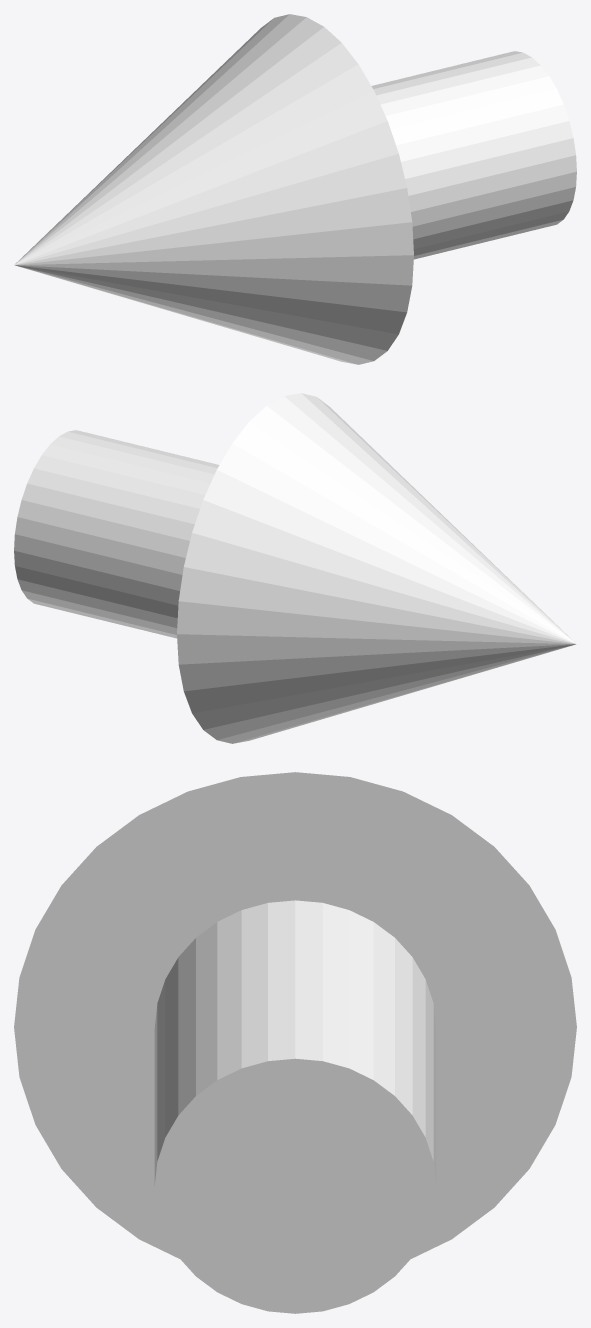
The model's file is TitleArrow.obj.
3 views of the same model, one above another, from view 1: azimuth 30°, elevation 25°; view 2: azimuth 150°, elevation 25°; view 3: azimuth 270°, elevation 25° (orthographic). The views are drawn at different scales.
Parts seen in each view (by area): view 1: 円錐; view 2: 円錐; view 3: 円錐.
Part boxes in pixels (left/top/right/bottom): 円錐: left=14, top=14, right=576, bottom=364; 円錐: left=14, top=393, right=576, bottom=743; 円錐: left=14, top=772, right=576, bottom=1313.
Size of the model in its own units: 0.5 by 0.3 by 0.3.
1 material, 1 textured.
